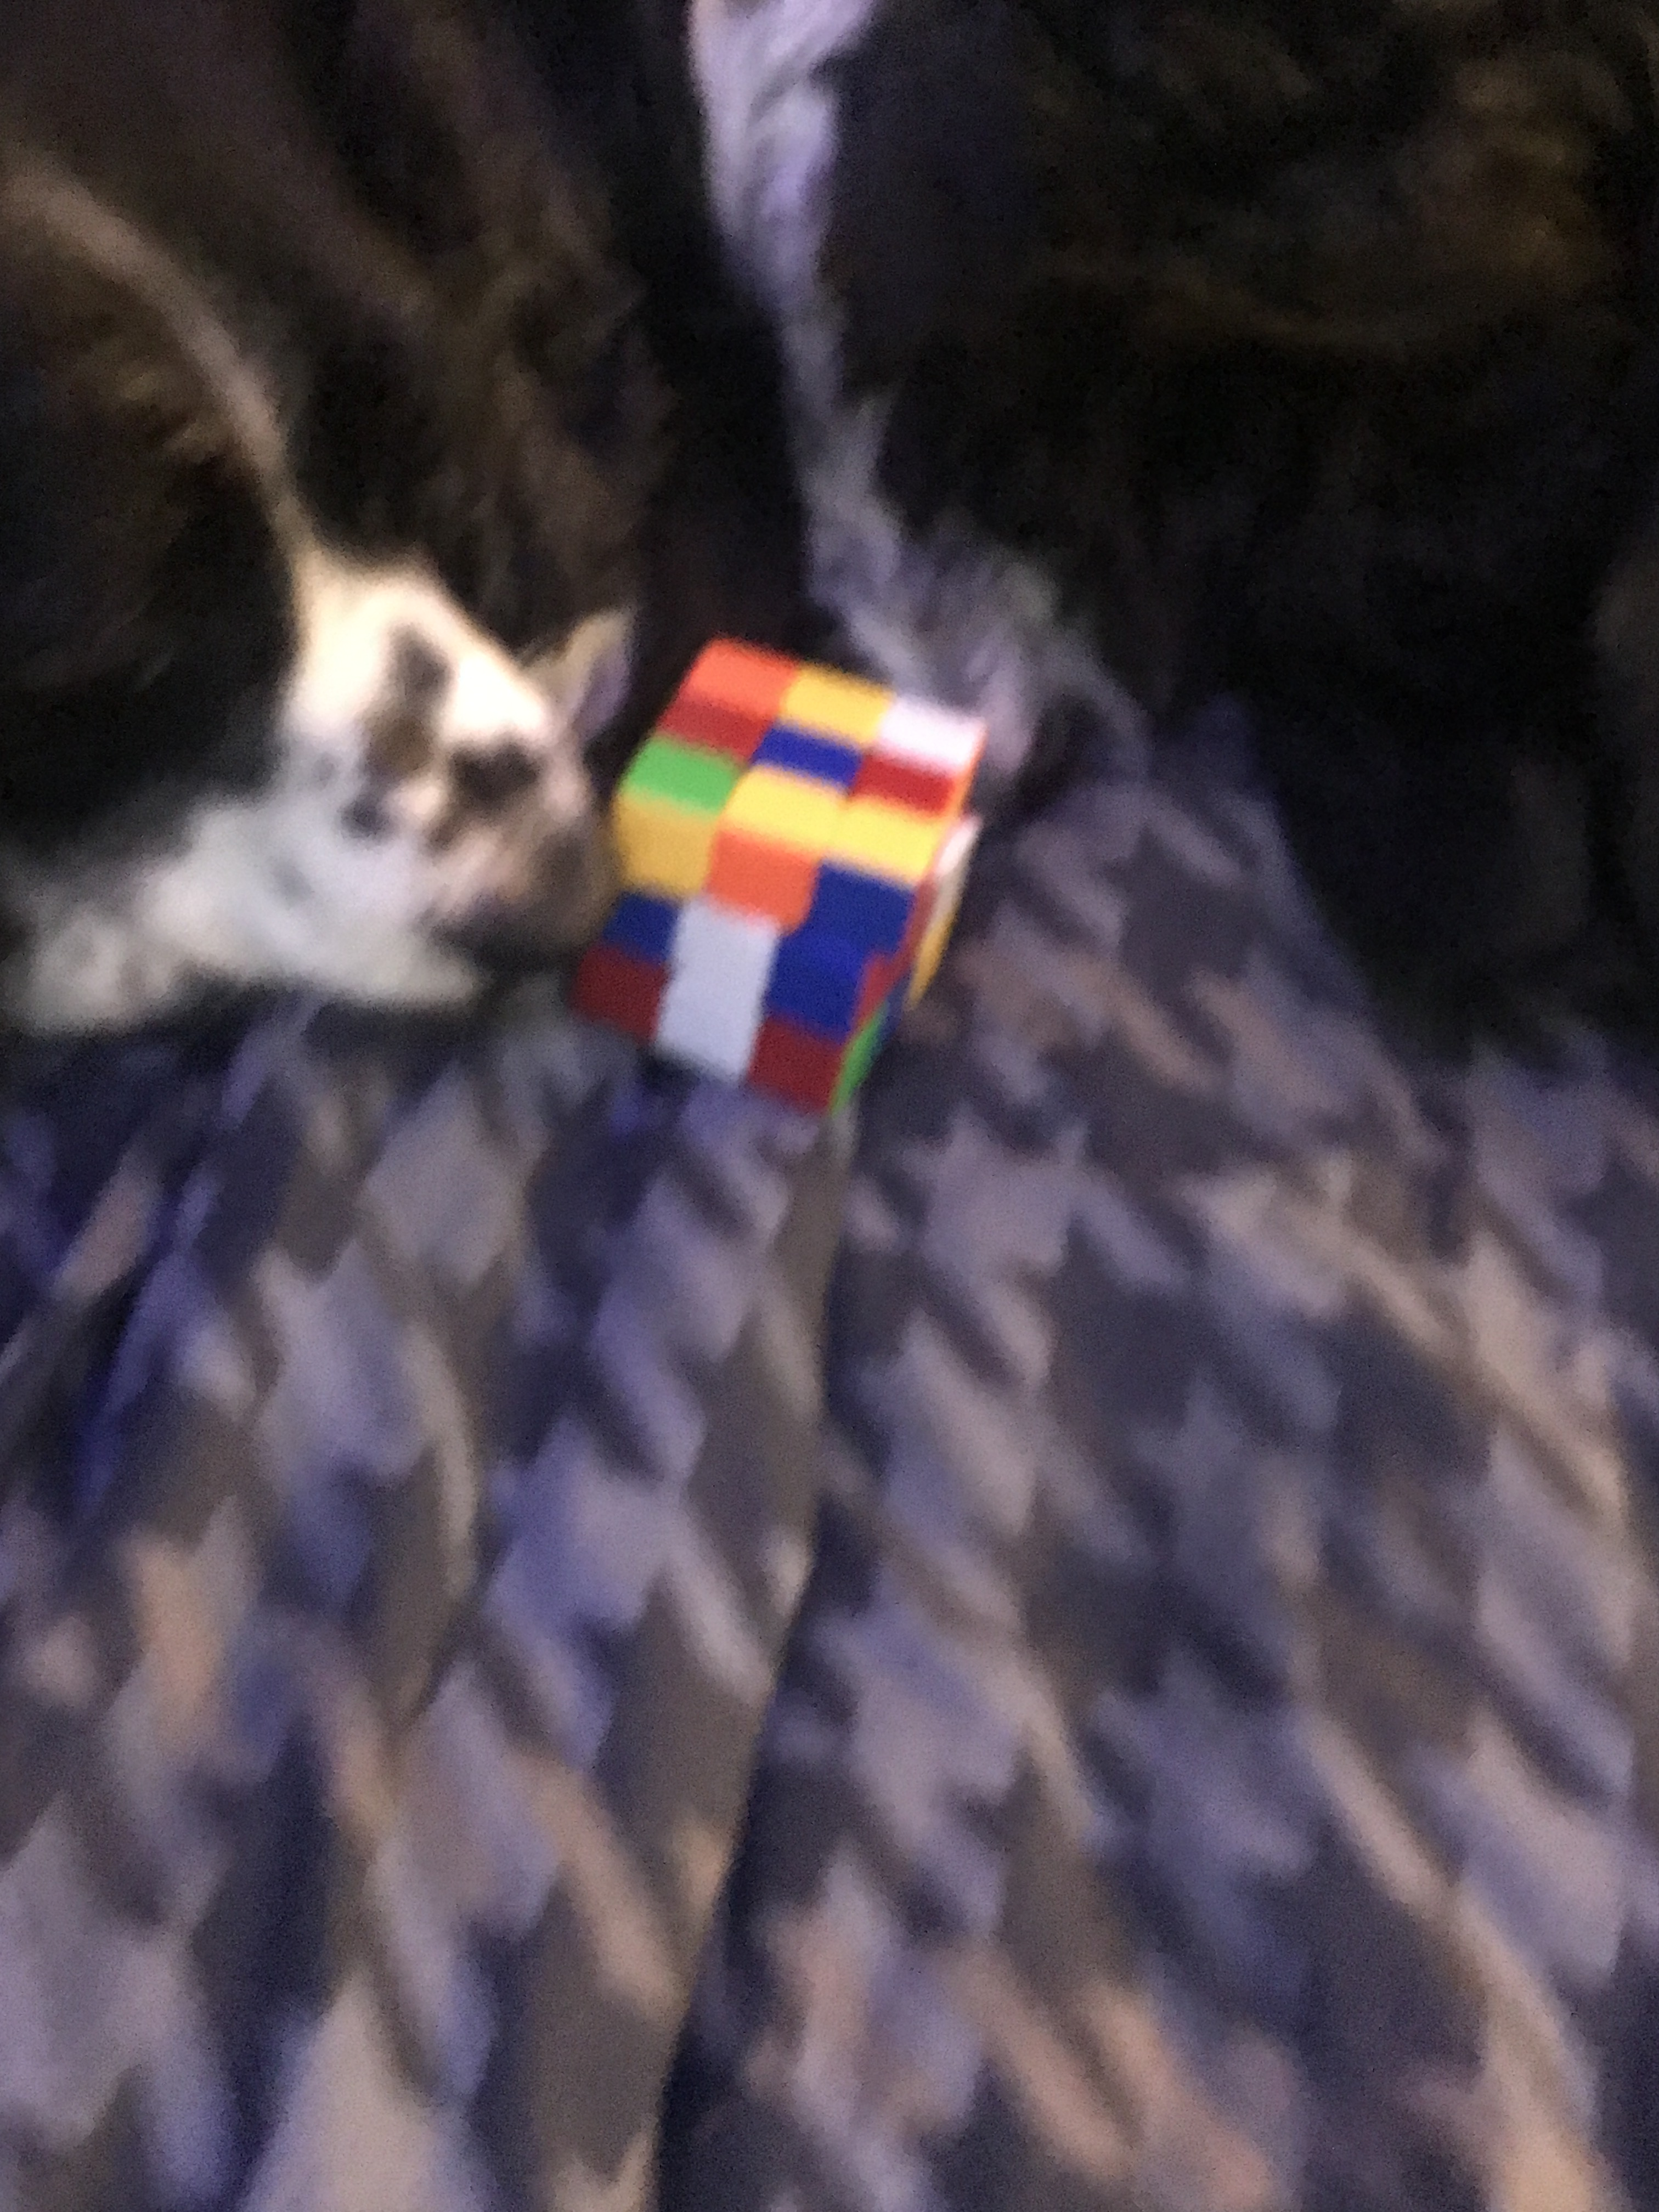rubiks: (558, 639, 999, 1125)
